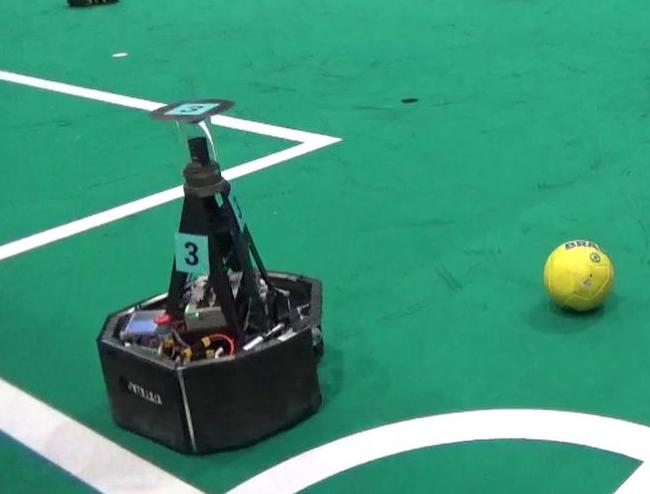robot: (90, 96, 342, 458)
